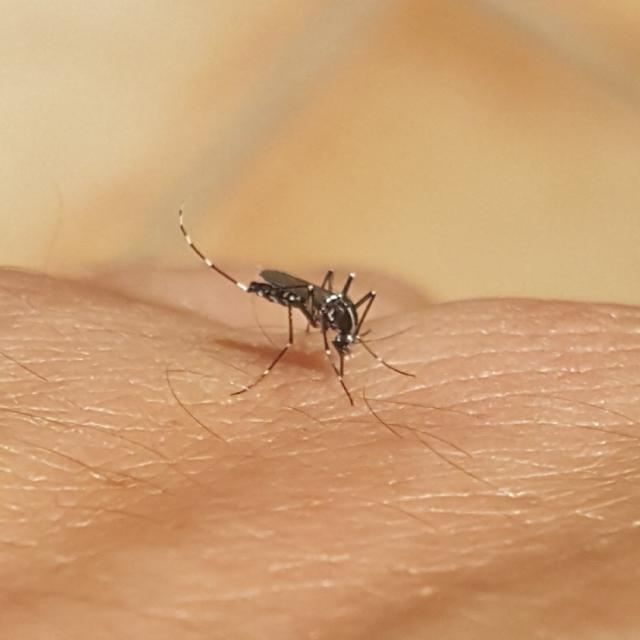albopictus: (163, 196, 437, 431)
